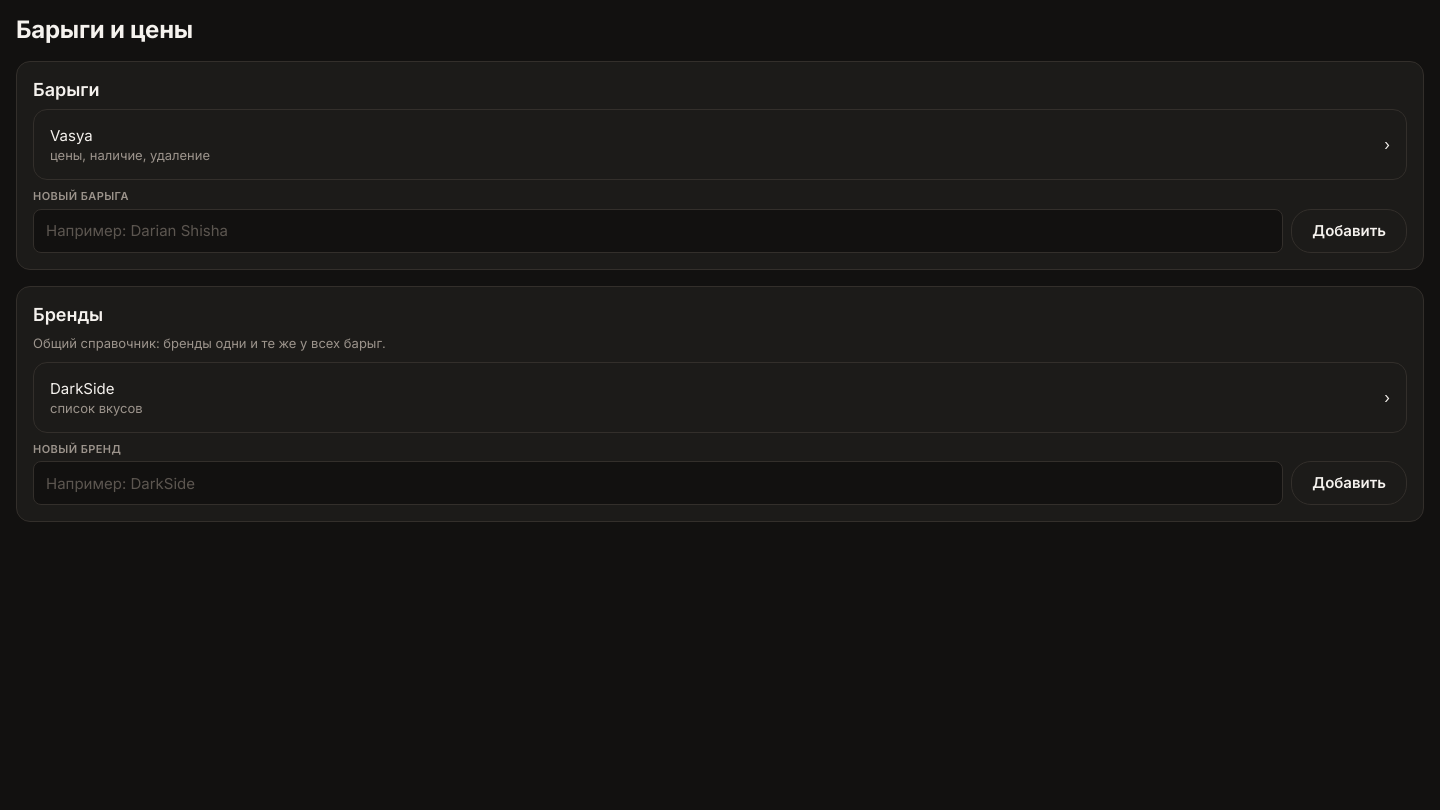
Scenario: AdminCatalogPage › warns that orders go with a brand that has them, and deletes only after confirmation
The width and height of the screenshot is (1440, 810).
Later steps or results of the test are not shown.
Click the button "DarkSide список вкусов ›". click: (82, 388)
box: [33,362,1407,433]
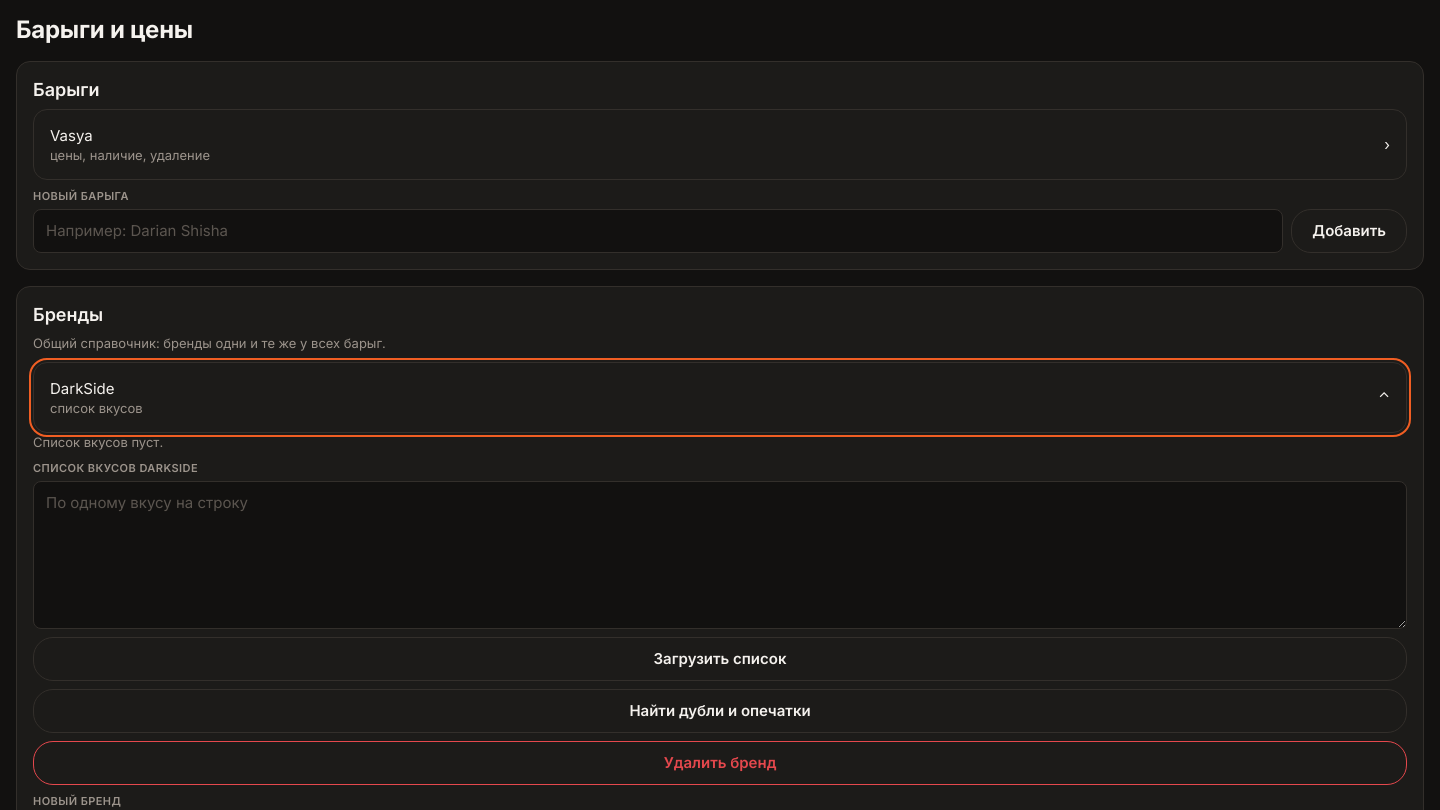
Click the button "Удалить бренд". click: (720, 763)
box: [33,741,1407,785]
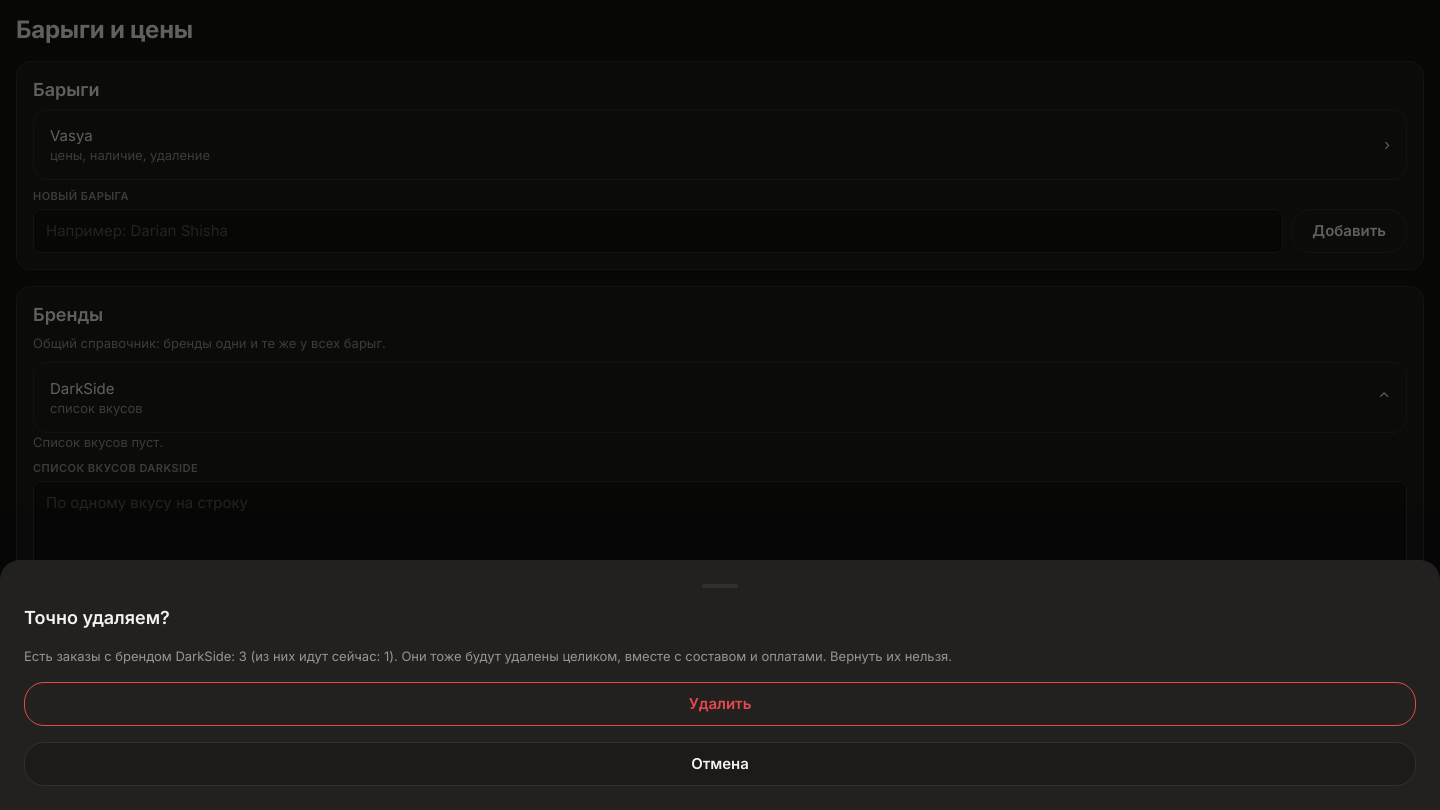
Result: the text "Есть заказы с брендом DarkSide: 3" is shown at [24,648,952,664]
